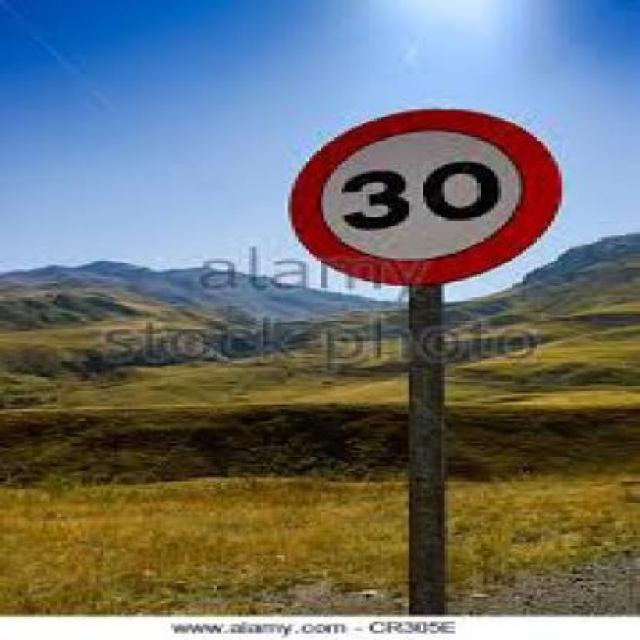forb_speed_over_30: (292, 109, 566, 286)
